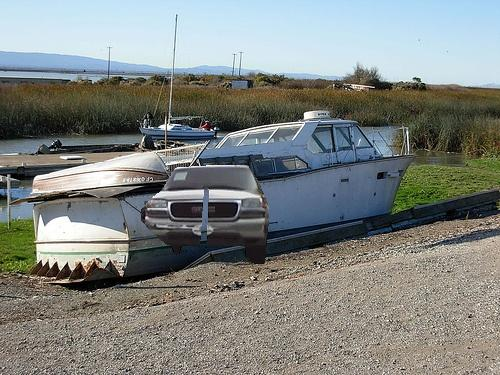tampered: (142, 166, 269, 264)
